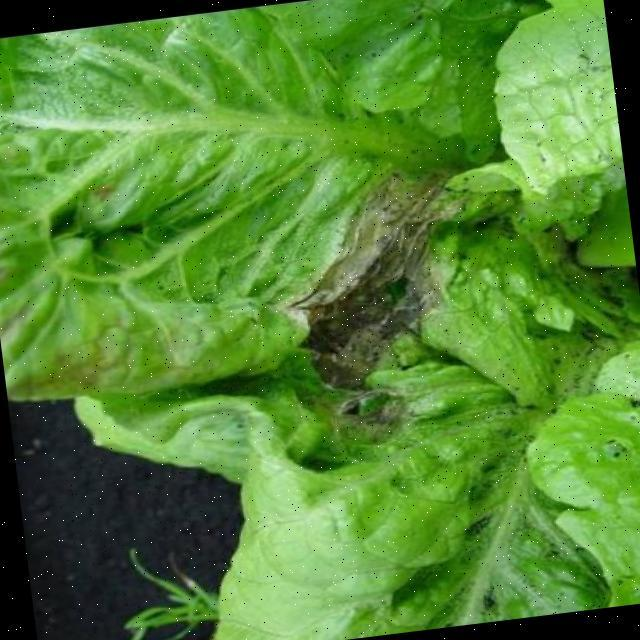Bacterial: (255, 157, 556, 462)
